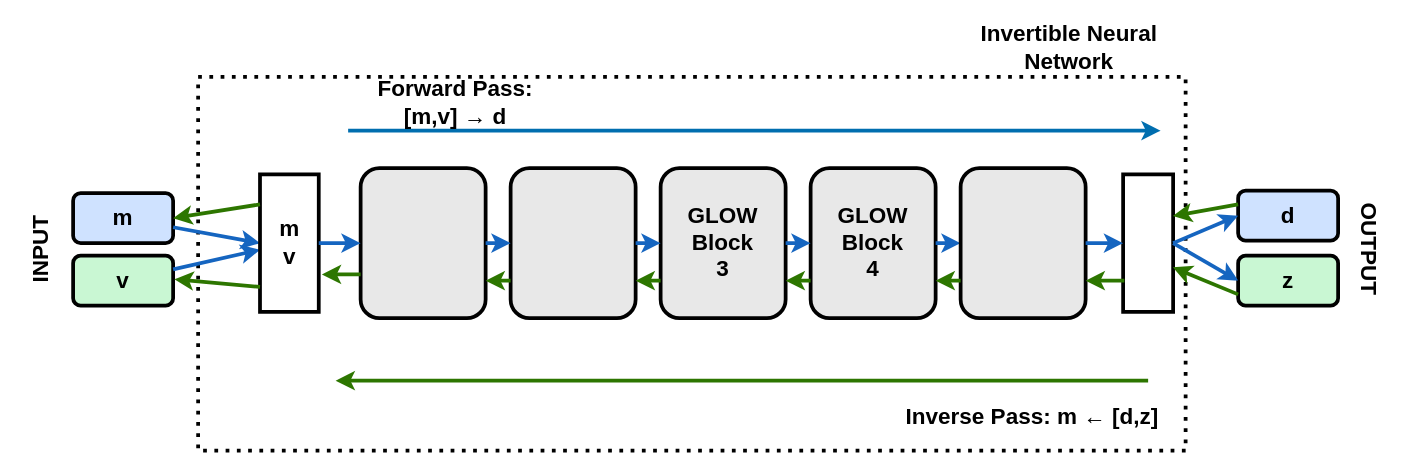
Some shapes in this 1409 by 474 pixel diagram are drawn without their labels. Here are the shapes that lost their labels. From the top down, the box of each, then its label:
(358, 166, 487, 319): GLOW Block 1
(508, 166, 637, 319): GLOW Block 2
(958, 166, 1087, 319): GLOW Block 5
(1121, 172, 1174, 313): d z
